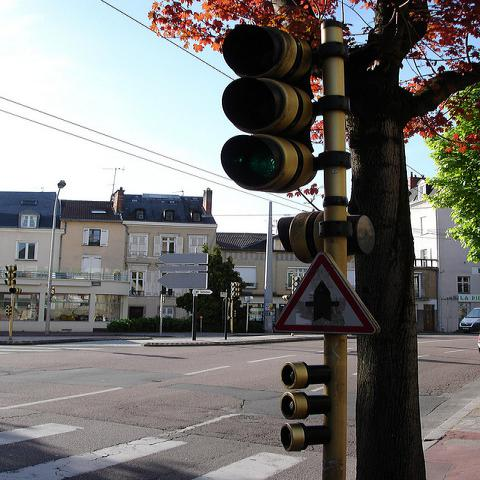car: (456, 306, 479, 335)
